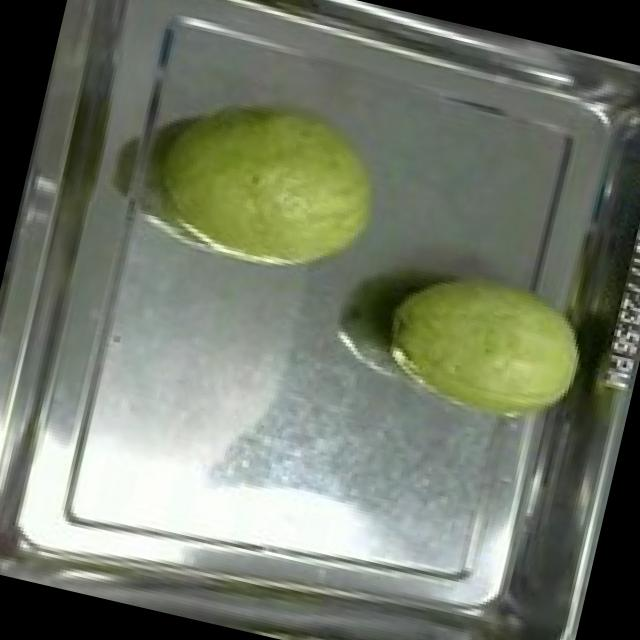Fruit: (132, 69, 405, 304), (364, 247, 608, 448)
